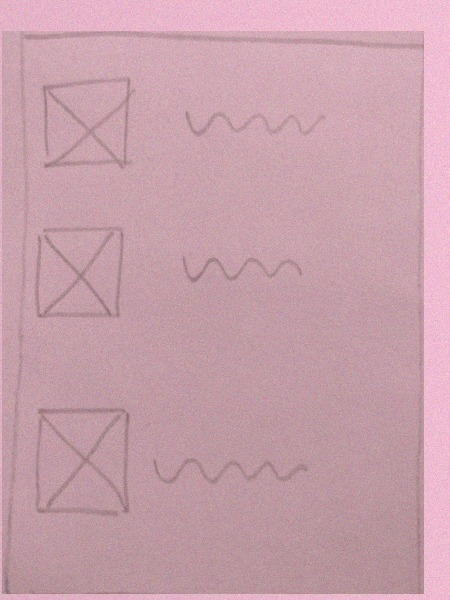image: (28, 401, 135, 518), (35, 74, 136, 175), (27, 223, 129, 323)
text: (151, 446, 313, 494), (175, 101, 334, 148), (166, 242, 325, 288)
